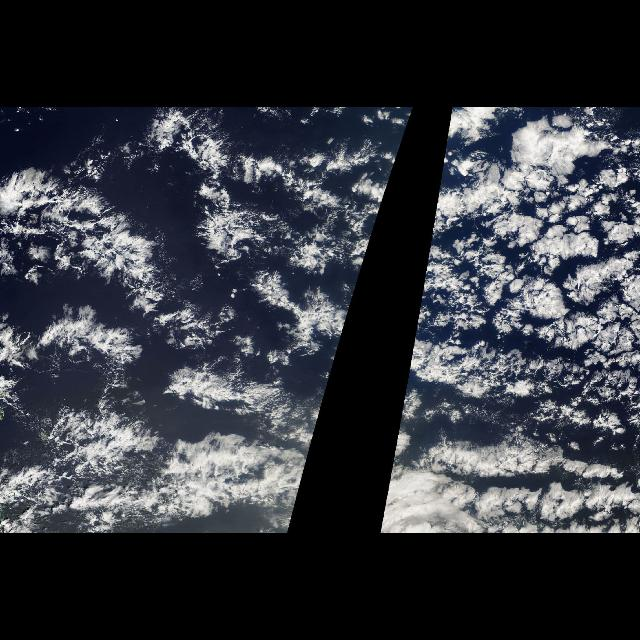Fish: (2, 114, 376, 530)
Flower: (380, 109, 640, 532), (328, 109, 414, 385)
